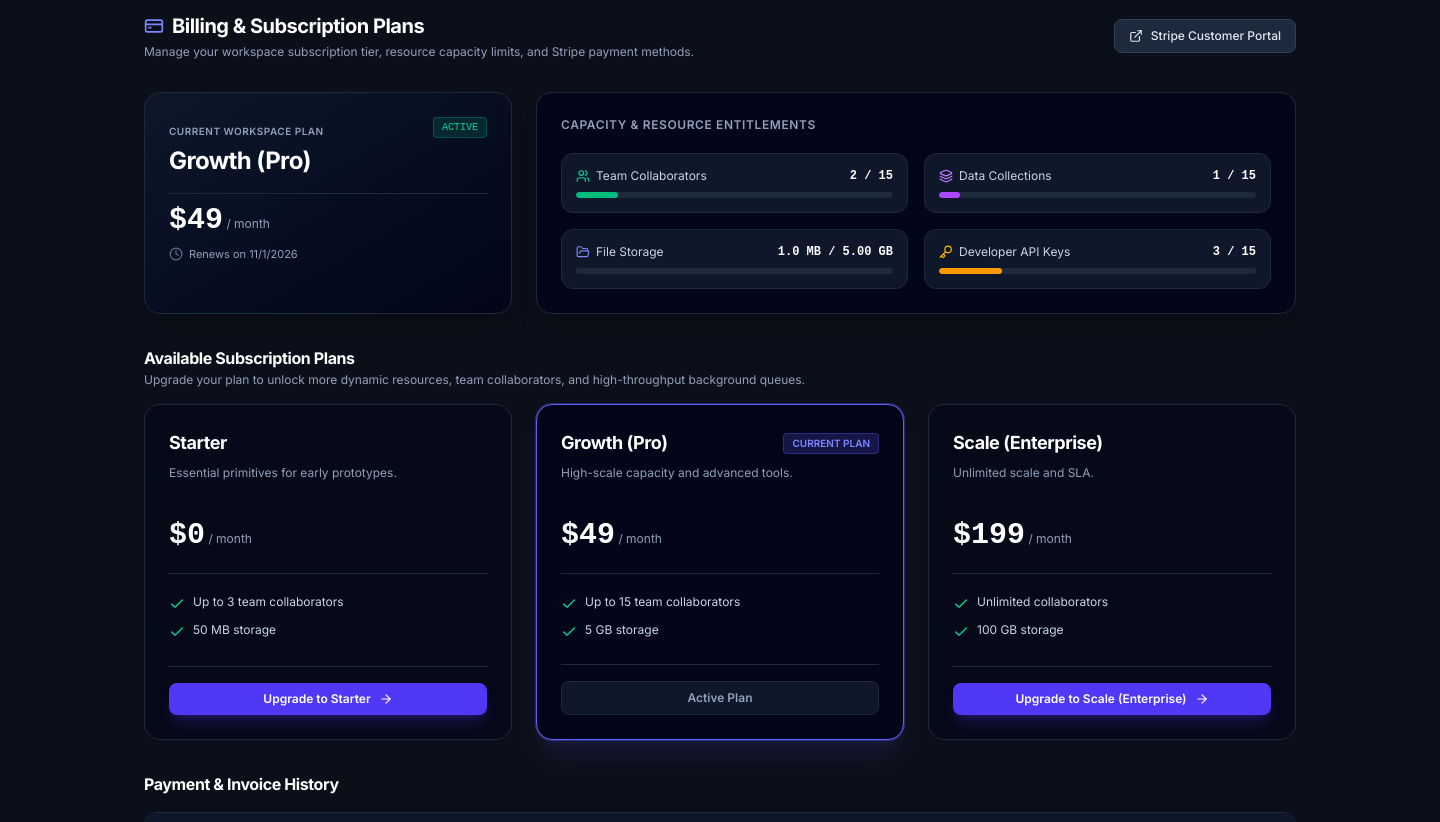
Customer Billing & Subscription Suite › allows upgrading to Enterprise plan
Expected: the heading "Scale (Enterprise)" is shown, left=953, top=429, right=1103, bottom=457
Click the button "Upgrade to Scale (Enterprise)".
click(1112, 699)  # box left=953, top=683, right=1271, bottom=715
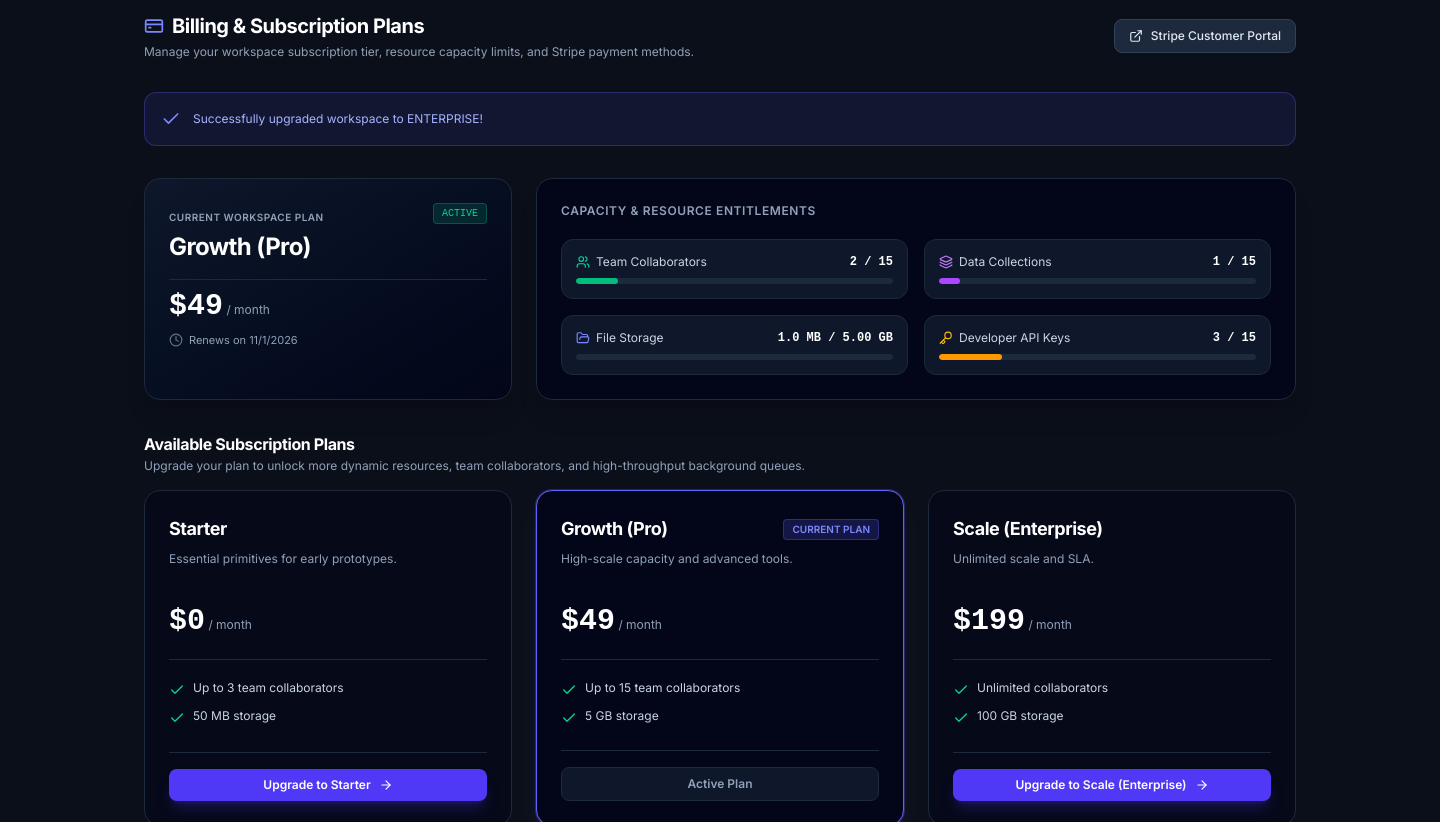
Result: the text "Successfully upgraded workspace to ENTERPRISE!" is shown at left=193, top=111, right=483, bottom=127
